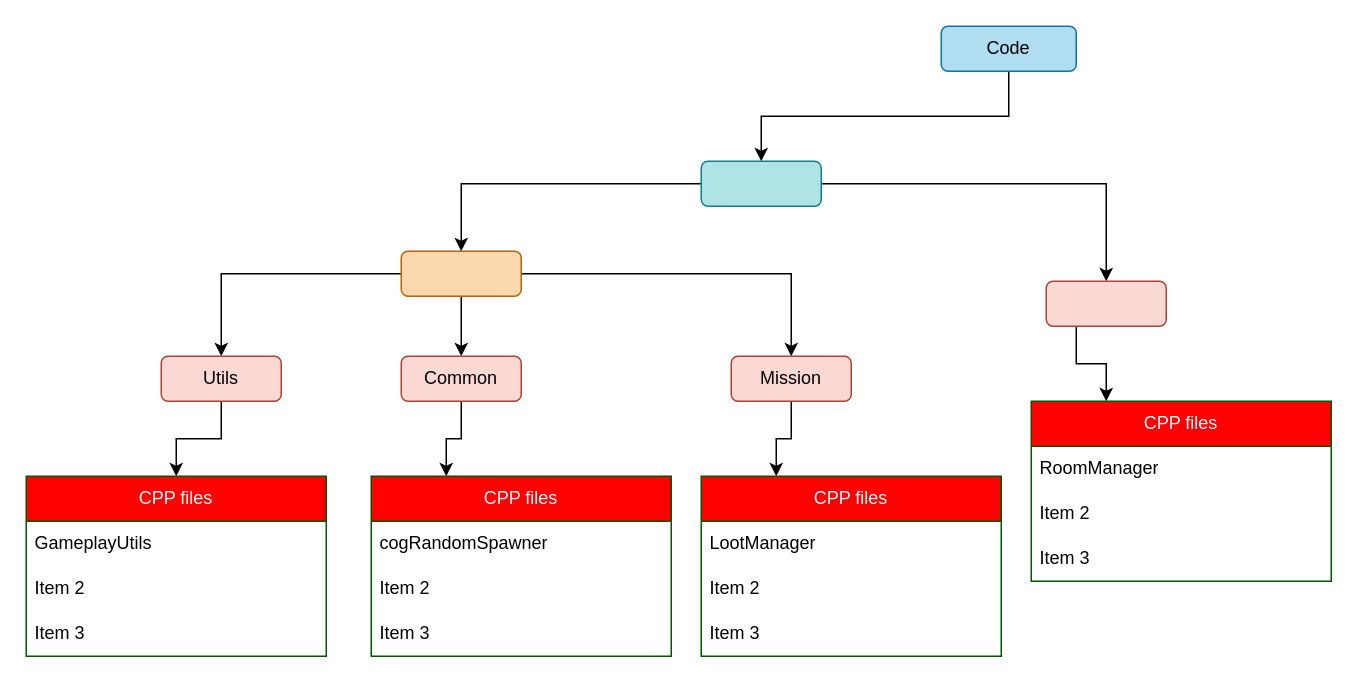
The diagram is 1358 pixels wide and 683 high, and some of its shapes have lost their labels. The centre of each missing label's shape, as x and y in pixels:
"Gameplay" goes at point (460, 273).
"Global" goes at point (760, 183).
"World" goes at point (1105, 303).
